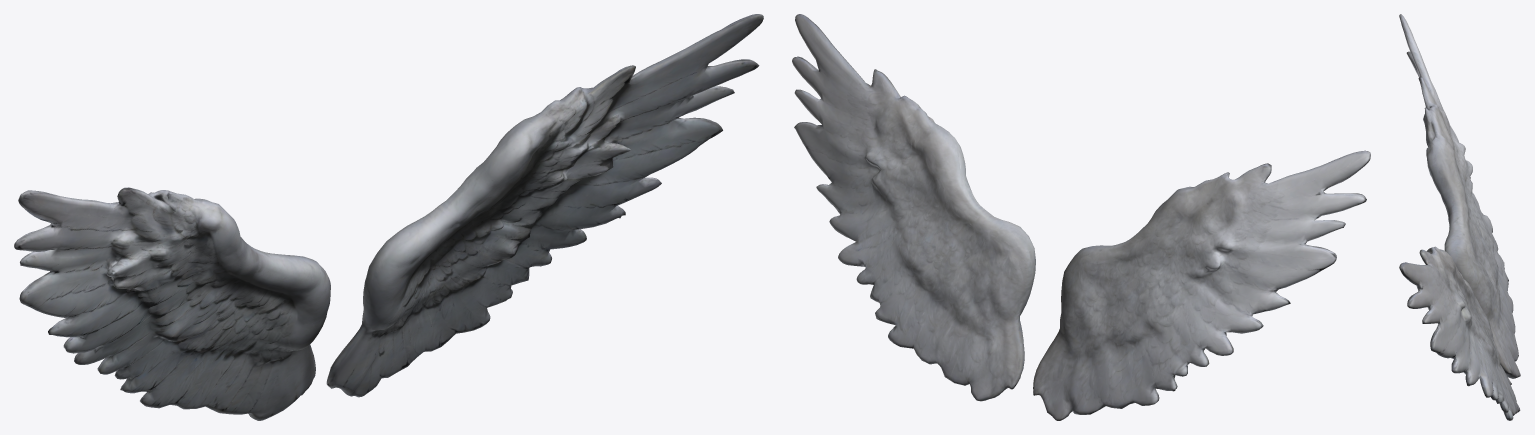
The model's file is Angel_Wings_1219184131_texture.fbx.
3 renders of one model, left to right at view 1: azimuth 30°, elevation 25°; view 2: azimuth 150°, elevation 25°; view 3: azimuth 270°, elevation 25°, orthographic. The views are drawn at different scales.
Visible parts, largest first — view 1: Mesh1_Mesh1.034; view 2: Mesh1_Mesh1.034; view 3: Mesh1_Mesh1.034.
Part boxes in pixels (bbox=[...]): Mesh1_Mesh1.034: bbox=[14, 14, 763, 420]; Mesh1_Mesh1.034: bbox=[792, 14, 1370, 420]; Mesh1_Mesh1.034: bbox=[1399, 14, 1520, 420].
Bounding box in the file's own units: 200 × 94.01 × 40.53.
Materials: 1 (1 with a texture image).
